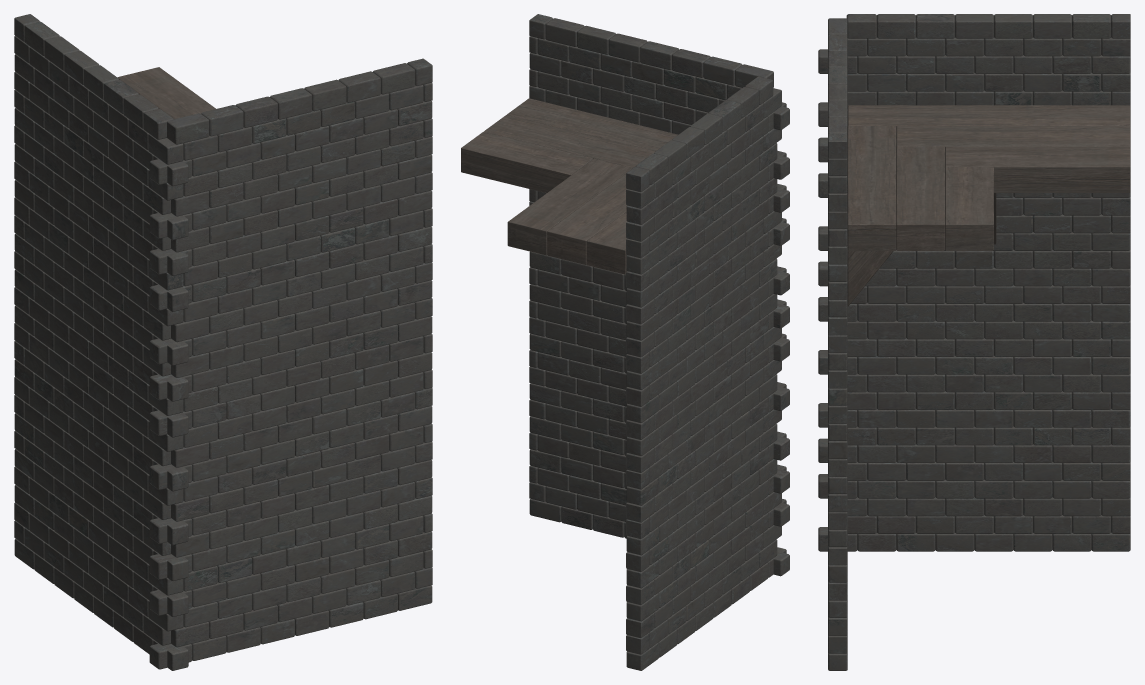
File: Burgmauer_Ecke.fbx
3 renders of one model, left to right at view 1: azimuth 30°, elevation 25°; view 2: azimuth 150°, elevation 25°; view 3: azimuth 270°, elevation 25°, orthographic. The views are drawn at different scales.
Visible parts, largest first — view 1: Burgmauer, Steg; view 2: Burgmauer, Steg; view 3: Burgmauer, Steg.
Boxes of the visible parts, box(x1,y1,x2,y2) form: Burgmauer: box(14, 14, 432, 670); Steg: box(117, 67, 215, 119); Burgmauer: box(529, 14, 789, 670); Steg: box(461, 98, 677, 274); Burgmauer: box(818, 14, 1130, 670); Steg: box(847, 105, 1130, 306).
Size of the model in its own units: 160 by 300 by 160.
